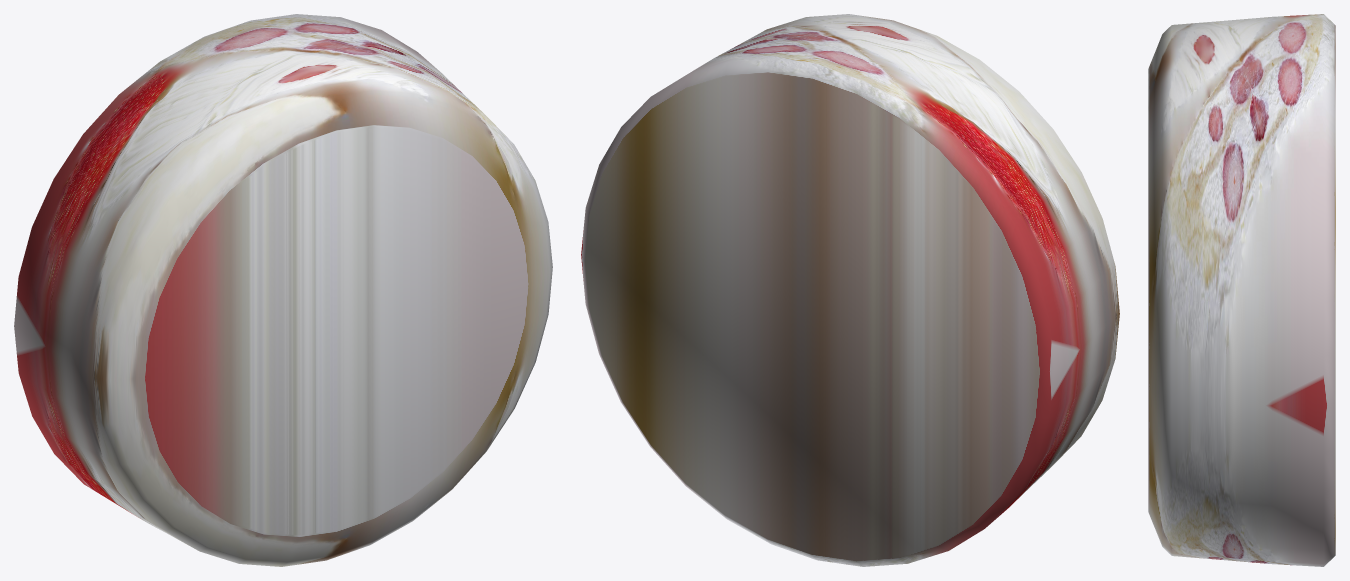
3 views of the same model, side by side, from view 1: azimuth 30°, elevation 25°; view 2: azimuth 150°, elevation 25°; view 3: azimuth 270°, elevation 25° (orthographic).
Size of the model in its own units: 0.7563 by 0.7563 by 0.256.
